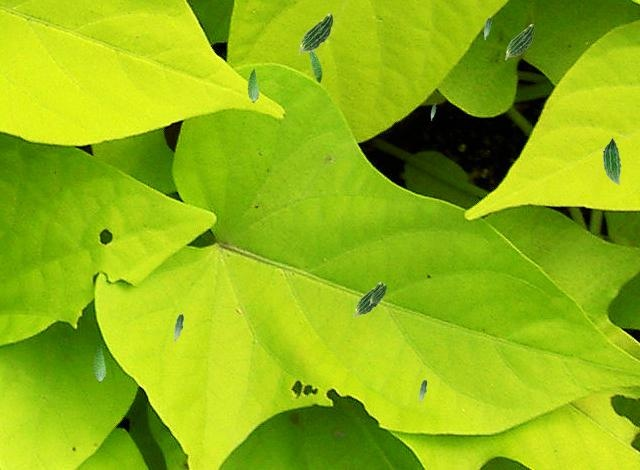ampalaya: (298, 13, 333, 55), (504, 23, 535, 60), (353, 281, 383, 318), (602, 136, 621, 185), (92, 344, 106, 383), (308, 50, 322, 84), (246, 68, 259, 103), (369, 283, 387, 305), (173, 311, 184, 343), (418, 377, 427, 404), (483, 15, 491, 40), (430, 103, 436, 120)
